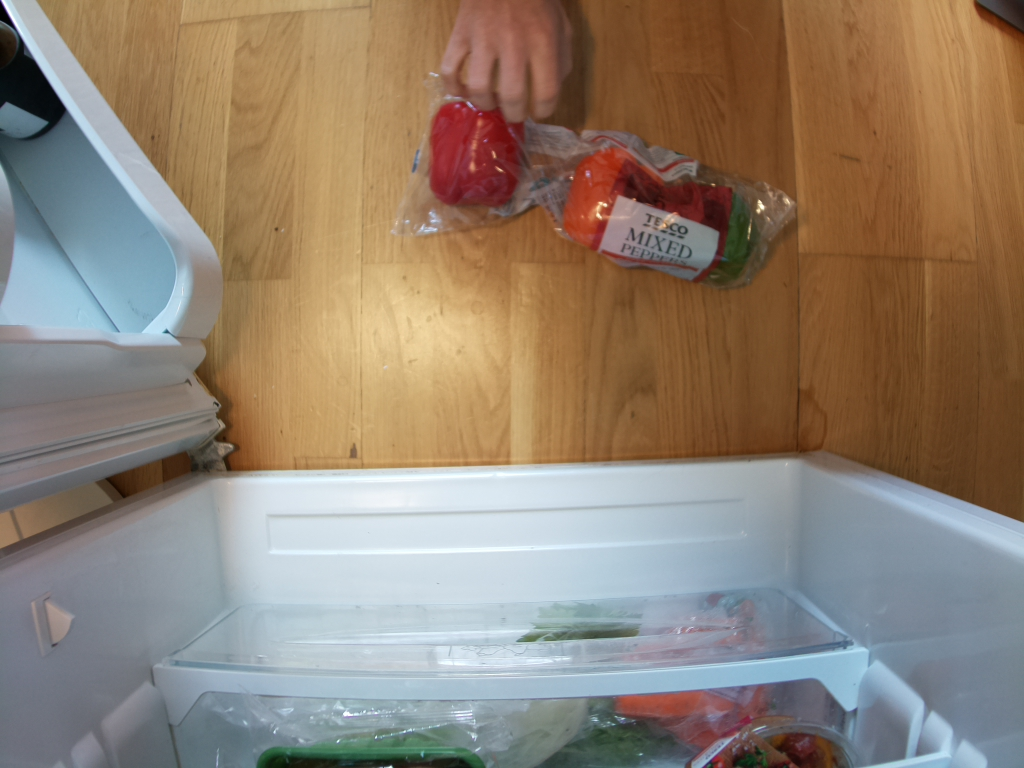pepper: (427, 100, 523, 210), (665, 170, 755, 283), (563, 146, 661, 246)
